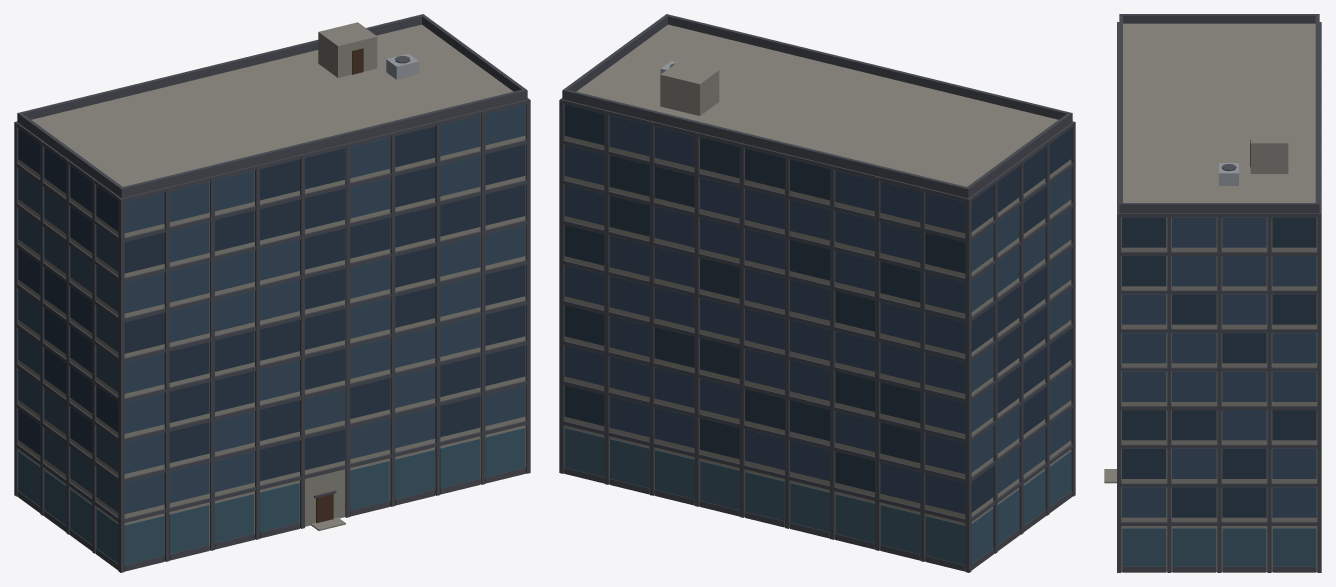
The picture shows the model from 3 angles, left to right: view 1: azimuth 30°, elevation 25°; view 2: azimuth 150°, elevation 25°; view 3: azimuth 270°, elevation 25°; orthographic projection. The views are drawn at different scales.
Parts seen in each view (by area): view 1: off_c; view 2: off_c; view 3: off_c.
Boxes of the visible parts, x1,y1,x2,y2 form: off_c: (14, 14, 530, 572); off_c: (559, 14, 1075, 572); off_c: (1104, 14, 1321, 572).
Size of what is drawn, in the model's own units: 36.36 by 34.4 by 17.38.
